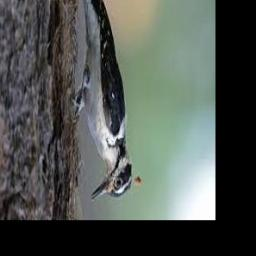Woodpecker: (72, 0, 141, 200)
